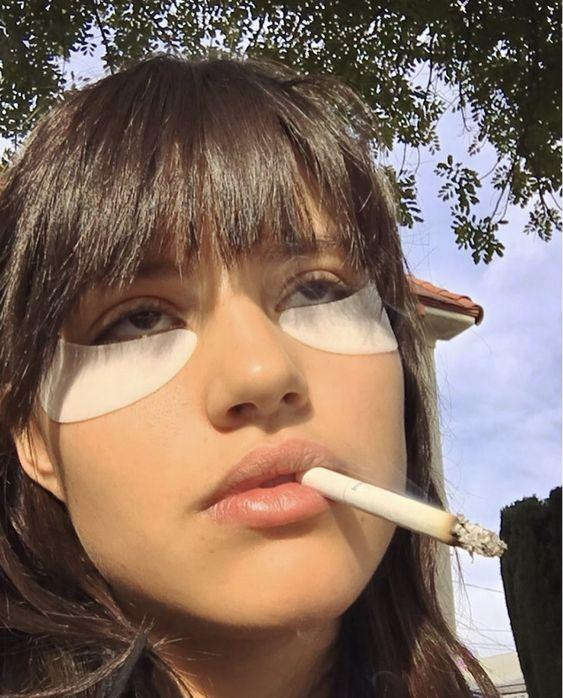cigarette: (294, 467, 509, 558)
